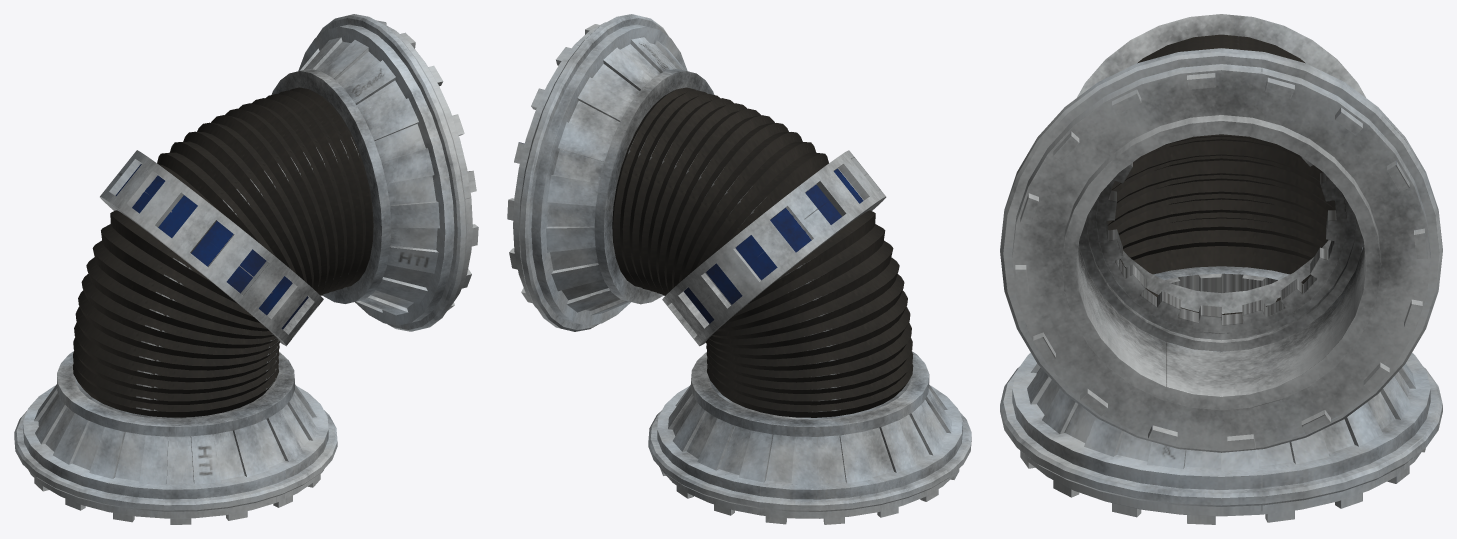
The model's file is Connector_90deg.obj.
3 views of the same model, side by side, from view 1: azimuth 30°, elevation 25°; view 2: azimuth 150°, elevation 25°; view 3: azimuth 270°, elevation 25° (orthographic). The views are drawn at different scales.
Parts seen in each view (by area): view 1: Connector_90deg; view 2: Connector_90deg; view 3: Connector_90deg.
Boxes of the visible parts, x1,y1,x2,y2 form: Connector_90deg: (14,14,478,524); Connector_90deg: (507,14,971,524); Connector_90deg: (1000,14,1442,524).
Size of the model in its own units: 0.5853 by 0.5853 by 0.4442.
